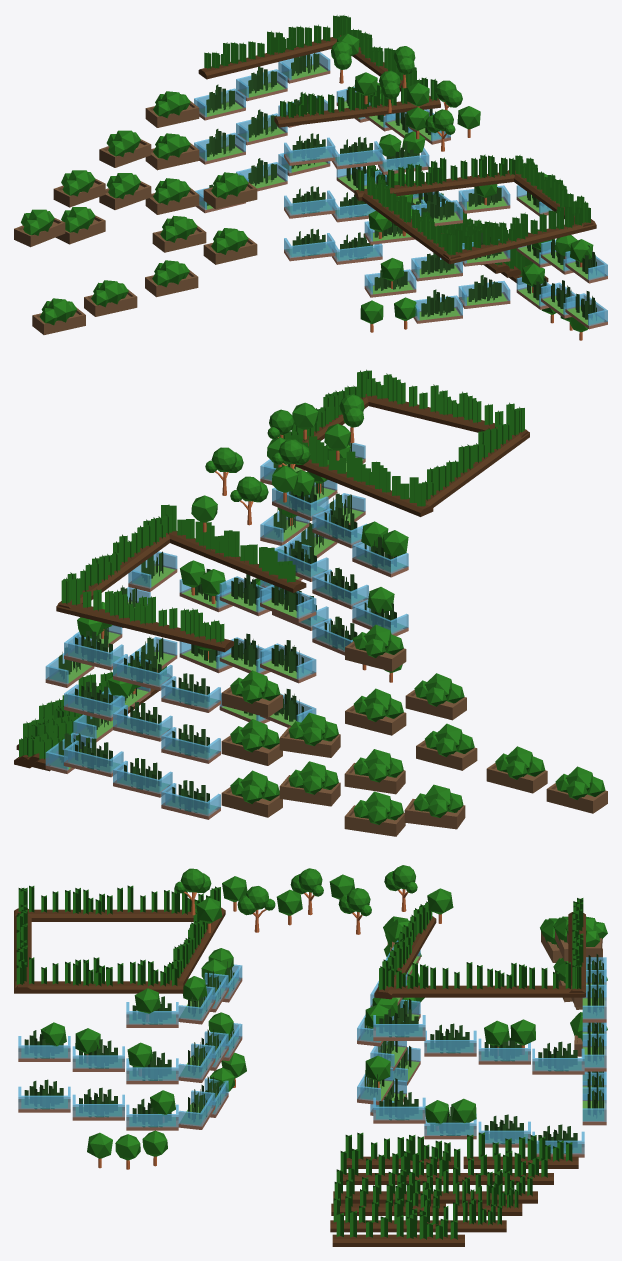
File: solution_25_balkony.fbx
3 views of the same model, one above another, from view 1: azimuth 30°, elevation 25°; view 2: azimuth 150°, elevation 25°; view 3: azimuth 270°, elevation 25° (orthographic). The views are drawn at different scales.
Parts seen in each view (by area): view 1: solution_25_balkony; view 2: solution_25_balkony; view 3: solution_25_balkony.
Part boxes in pixels (x1,y1,x2,y2): solution_25_balkony: (14,15,607,340); solution_25_balkony: (14,369,607,836); solution_25_balkony: (14,865,607,1246).
Bounding box in the file's own units: 4823 × 2491 × 4678.
